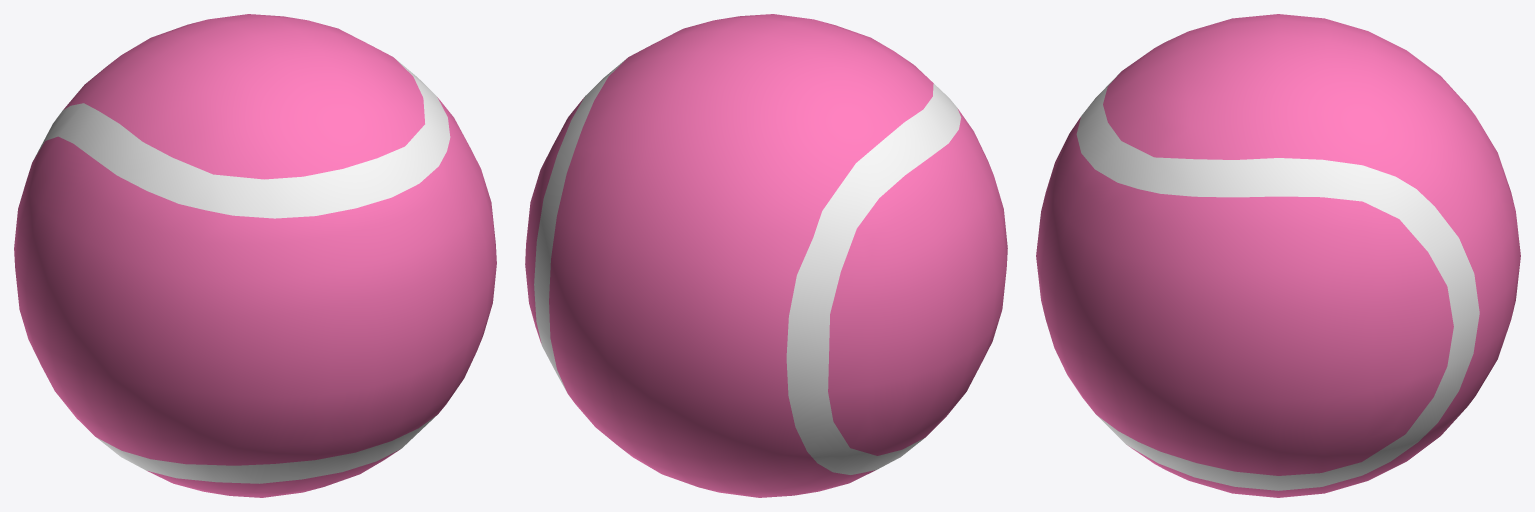
The model's file is Tennisball_Pink.fbx.
3 renders of one model, left to right at view 1: azimuth 30°, elevation 25°; view 2: azimuth 150°, elevation 25°; view 3: azimuth 270°, elevation 25°, orthographic.
Visible parts, largest first — view 1: Tennisball_Pink; view 2: Tennisball_Pink; view 3: Tennisball_Pink.
Part boxes in pixels (box(x1,y1,x2,y2)): Tennisball_Pink: box(14, 14, 496, 497); Tennisball_Pink: box(525, 14, 1007, 497); Tennisball_Pink: box(1036, 14, 1520, 497).
Size of the model in its own units: 92.63 by 92.63 by 92.63.
